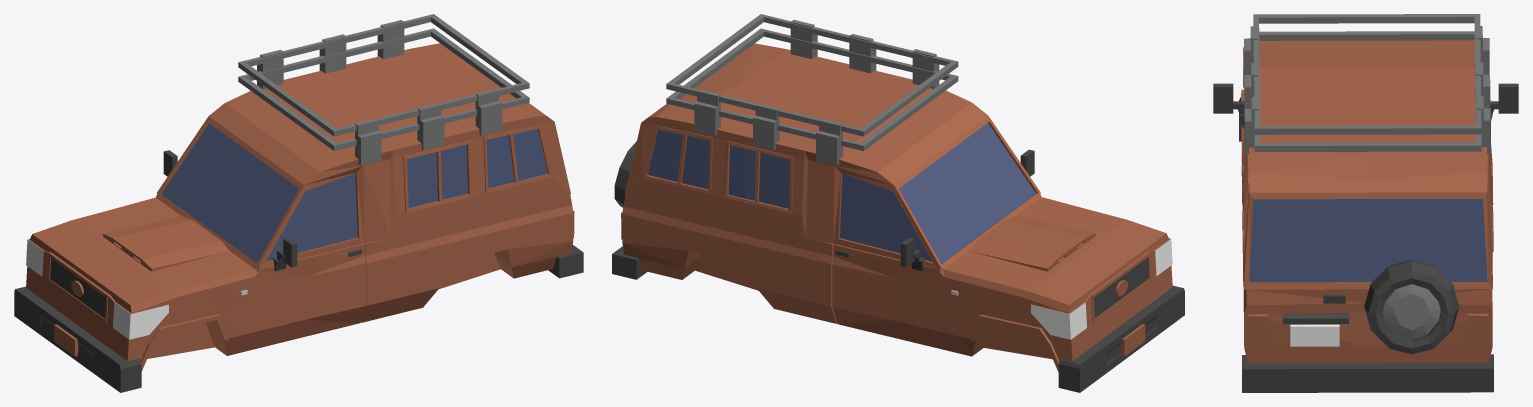
File: car_C_body.fbx
3 views of the same model, side by side, from view 1: azimuth 30°, elevation 25°; view 2: azimuth 150°, elevation 25°; view 3: azimuth 270°, elevation 25° (orthographic). The views are drawn at different scales.
Visible parts, largest first — view 1: polySurface11; view 2: polySurface11; view 3: polySurface11.
Boxes of the visible parts, <box> form: polySurface11: <box>14,14,583,392</box>; polySurface11: <box>612,14,1184,392</box>; polySurface11: <box>1213,14,1518,392</box>.
Bounding box in the file's own units: 1709 × 687 × 779.
